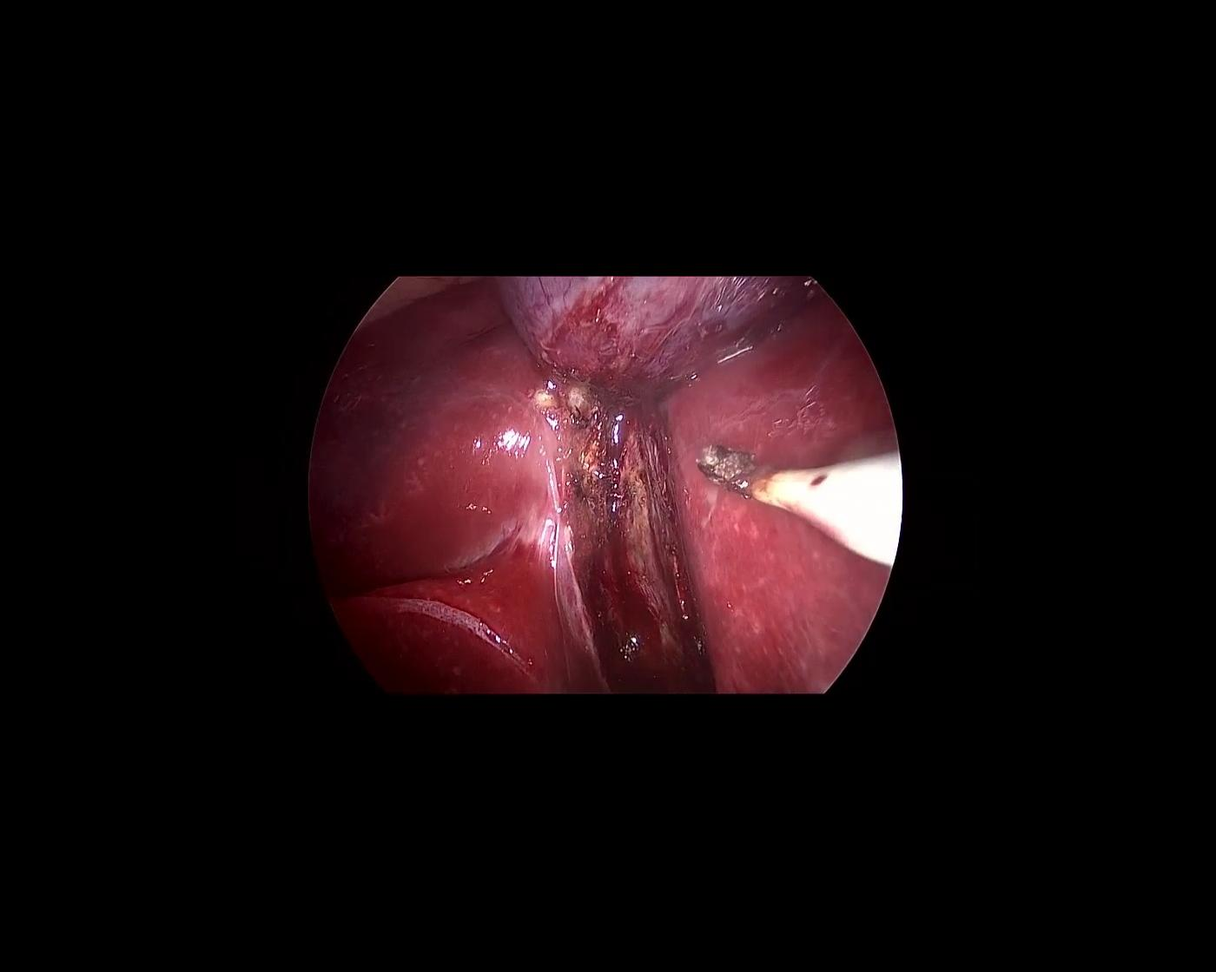Cautery: (700, 448, 901, 569)
Gallbladder: (495, 277, 827, 386)
Liver: (269, 271, 609, 747), (656, 300, 900, 695)
